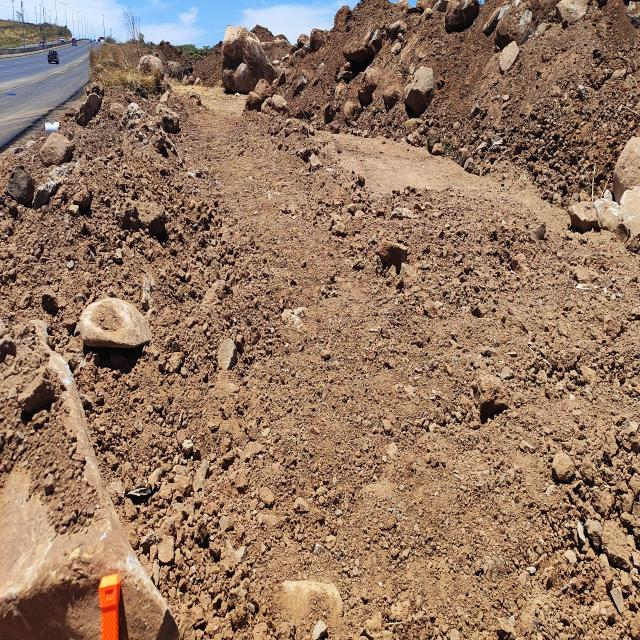Orange_hammer: (98, 571, 121, 639)
